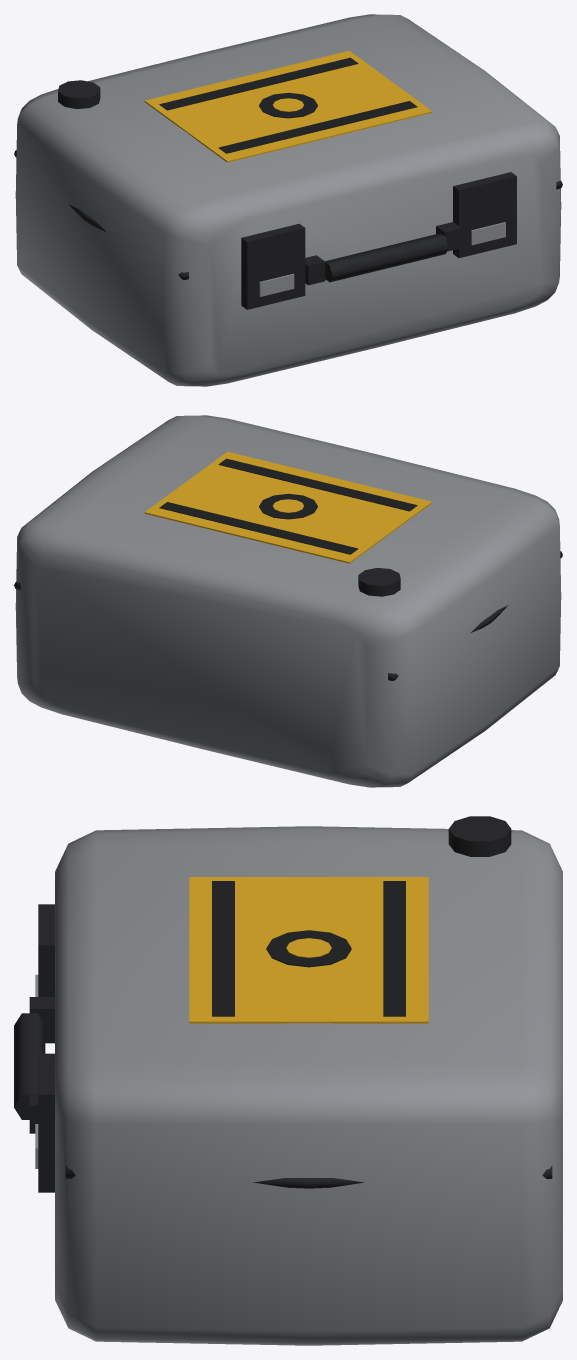
Rendered from biopsy-kit.glb.
3 views of the same model, one above another, from view 1: azimuth 30°, elevation 25°; view 2: azimuth 150°, elevation 25°; view 3: azimuth 270°, elevation 25° (orthographic). The views are drawn at different scales.
Parts seen in each view (by area): view 1: biopsy-kit; view 2: biopsy-kit; view 3: biopsy-kit.
Part boxes in pixels (x1,y1,x2,y2): biopsy-kit: (14, 14, 562, 386); biopsy-kit: (14, 415, 562, 787); biopsy-kit: (14, 816, 562, 1345).
Bounding box in the file's own units: 0.239 × 0.111 × 0.1926.
1 material, 1 textured.
